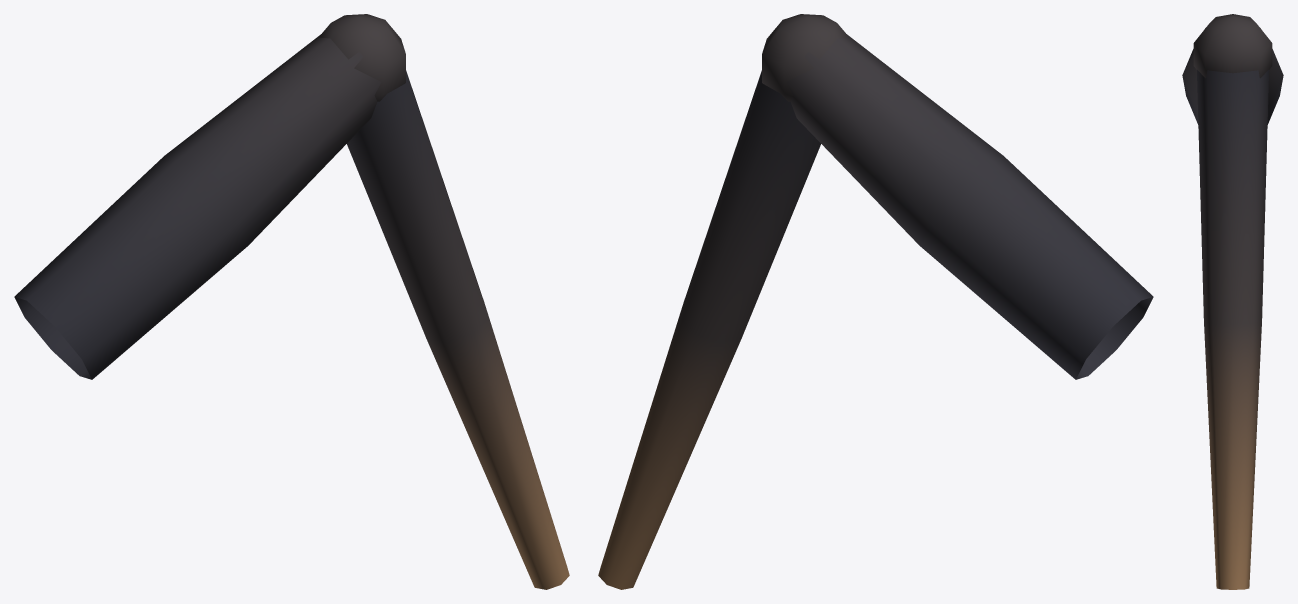
Rendered from Shiomaneki_Leg1.fbx.
The picture shows the model from 3 angles, left to right: view 1: azimuth 30°, elevation 25°; view 2: azimuth 150°, elevation 25°; view 3: azimuth 270°, elevation 25°; orthographic projection. The views are drawn at different scales.
Visible parts, largest first — view 1: Shiomaneki_Leg1; view 2: Shiomaneki_Leg1; view 3: Shiomaneki_Leg1.
Boxes of the visible parts, box(x1,y1,x2,y2) form: Shiomaneki_Leg1: box(14, 14, 569, 589); Shiomaneki_Leg1: box(598, 14, 1153, 589); Shiomaneki_Leg1: box(1182, 14, 1283, 589).
Size of the model in its own units: 0.2823 by 0.3059 by 0.0562.
